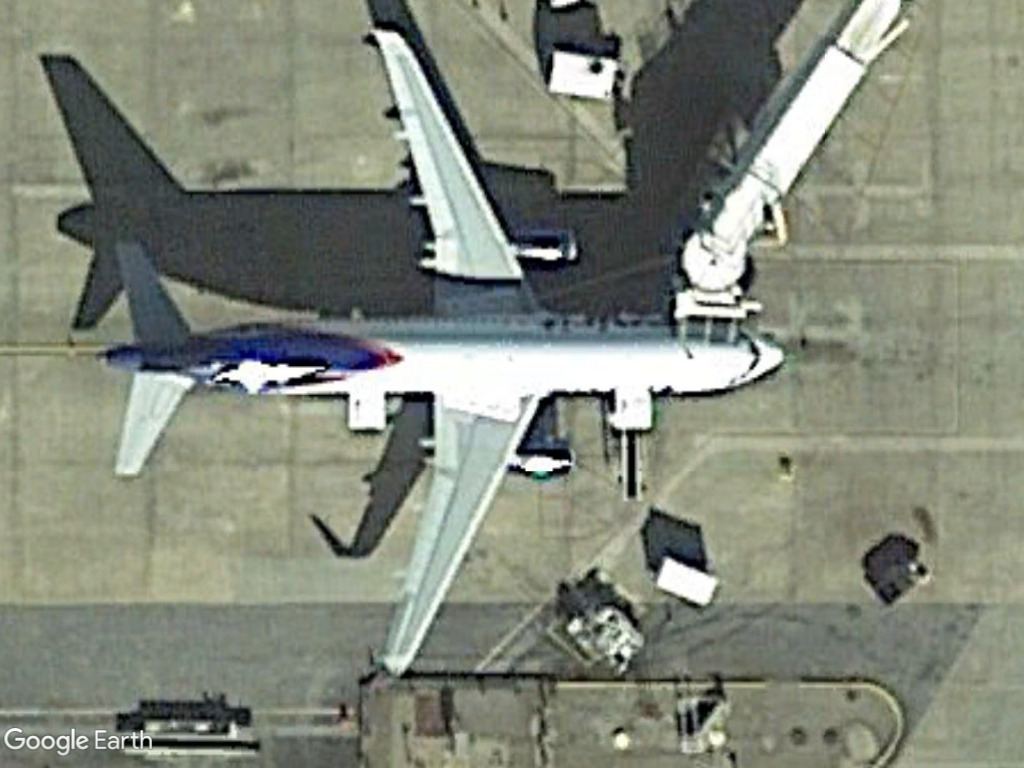airliner: (96, 21, 789, 686)
